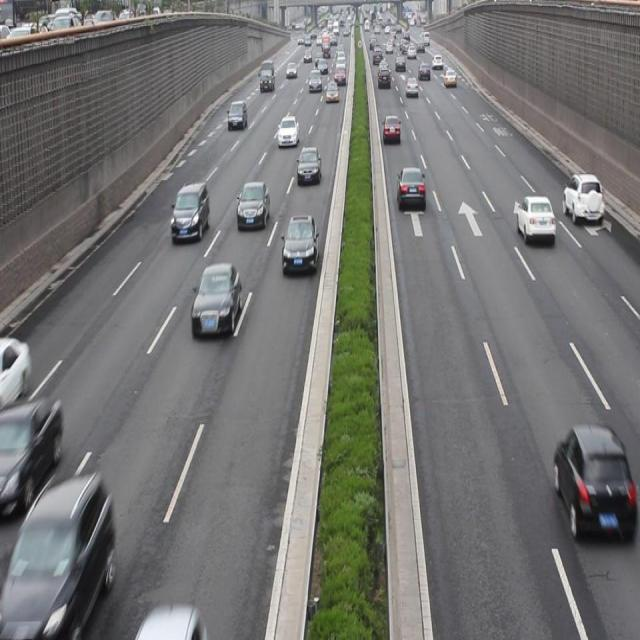car: (11, 473, 114, 640), (553, 425, 640, 539), (0, 397, 64, 512), (191, 263, 242, 337), (170, 181, 209, 242), (282, 216, 318, 275), (563, 172, 603, 225), (515, 194, 555, 245), (236, 180, 270, 232), (396, 166, 426, 212), (296, 146, 321, 186), (277, 115, 299, 148), (228, 99, 248, 131), (382, 113, 401, 144)
